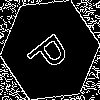P: (25, 25, 77, 79)
